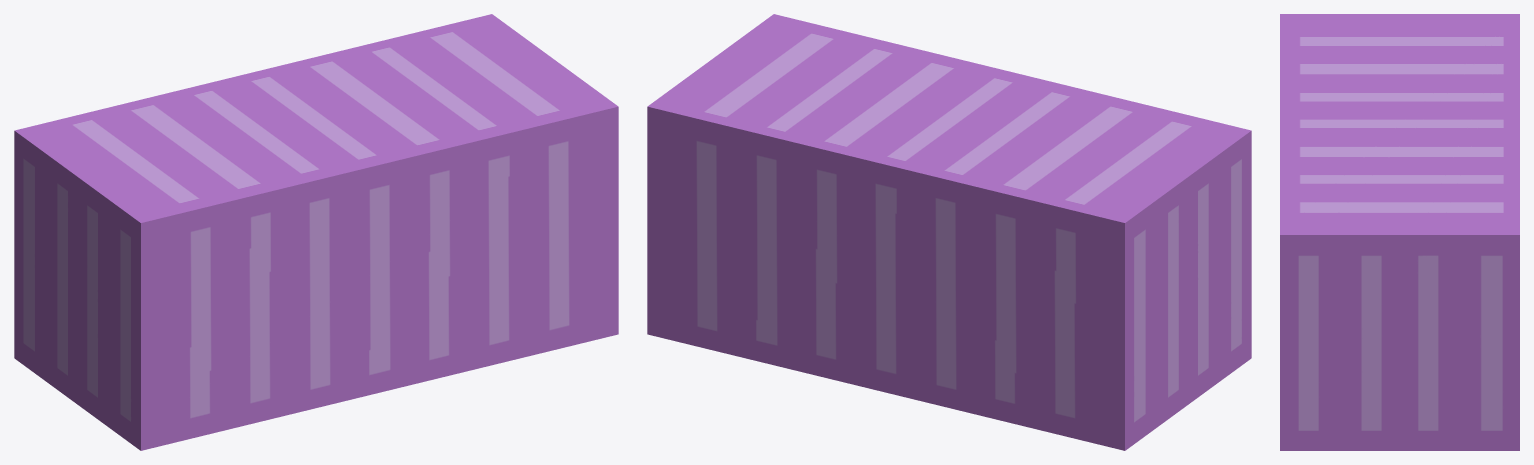
The model's file is ContP.fbx.
The picture shows the model from 3 angles, left to right: view 1: azimuth 30°, elevation 25°; view 2: azimuth 150°, elevation 25°; view 3: azimuth 270°, elevation 25°; orthographic projection. The views are drawn at different scales.
Visible parts, largest first — view 1: ContP; view 2: ContP; view 3: ContP.
Boxes of the visible parts, left/top/right/bottom form: ContP: left=14, top=14, right=618, bottom=450; ContP: left=647, top=14, right=1251, bottom=450; ContP: left=1280, top=14, right=1519, bottom=450.
Bounding box in the file's own units: 48.25 × 21.99 × 22.13.
